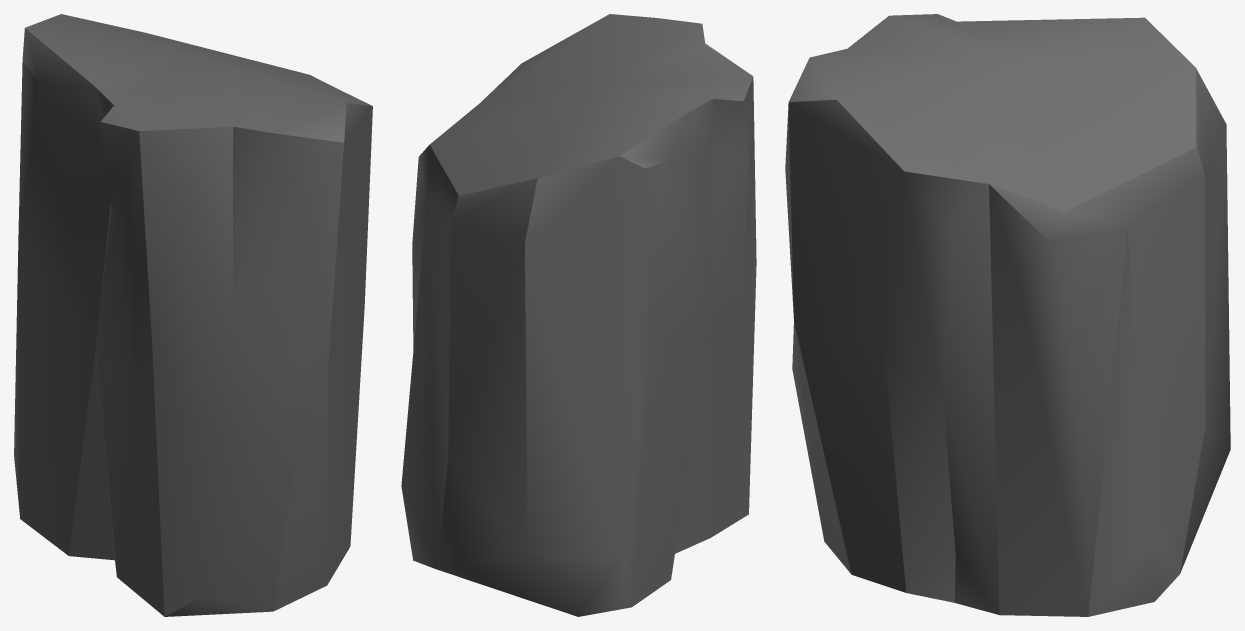
File: Stone_20.fbx
The picture shows the model from 3 angles, left to right: view 1: azimuth 30°, elevation 25°; view 2: azimuth 150°, elevation 25°; view 3: azimuth 270°, elevation 25°; orthographic projection. The views are drawn at different scales.
Visible parts, largest first — view 1: Stone_20; view 2: Stone_20; view 3: Stone_20.
Boxes of the visible parts, x1,y1,x2,y2 form: Stone_20: (14,14,372,616); Stone_20: (401,14,756,616); Stone_20: (785,14,1230,616).
Size of the model in its own units: 163 by 262 by 217.
